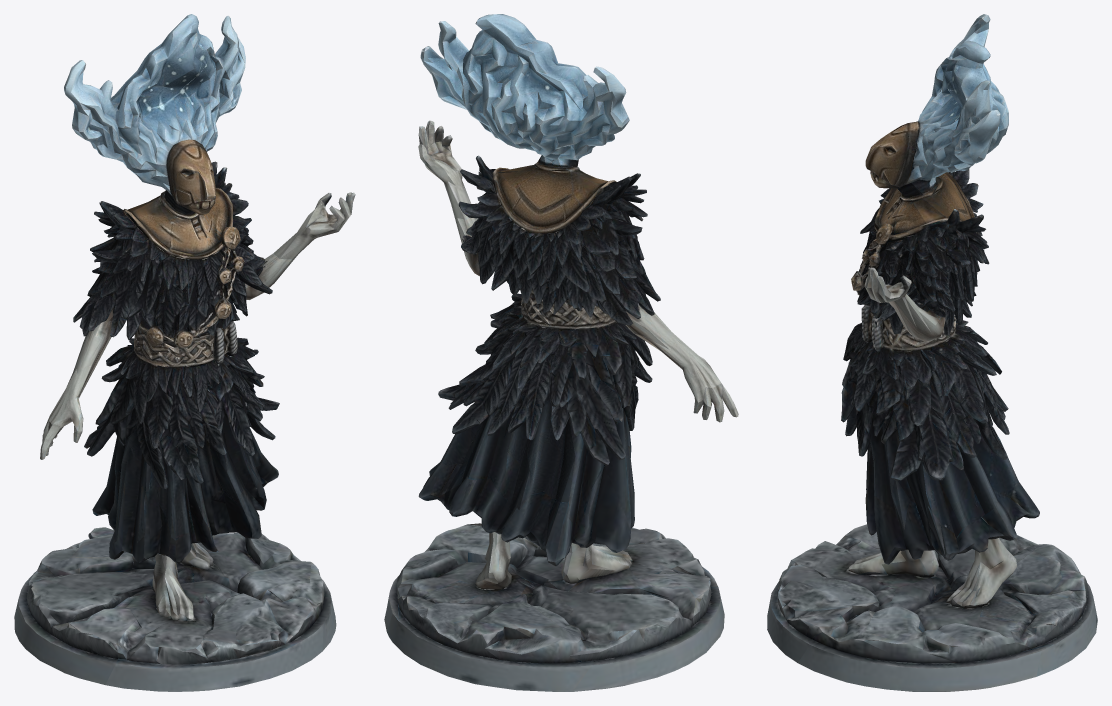
File: dreamer.glb
The picture shows the model from 3 angles, left to right: view 1: azimuth 30°, elevation 25°; view 2: azimuth 150°, elevation 25°; view 3: azimuth 270°, elevation 25°; orthographic projection. The views are drawn at different scales.
Parts seen in each view (by area): view 1: output_unwrapped; view 2: output_unwrapped; view 3: output_unwrapped.
Boxes of the visible parts, box(x1,y1,x2,y2) form: output_unwrapped: box(14, 14, 355, 691); output_unwrapped: box(384, 14, 738, 691); output_unwrapped: box(767, 14, 1097, 691).
Size of the model in its own units: 1.05 by 1.9 by 0.9561.
1 material, 1 textured.
